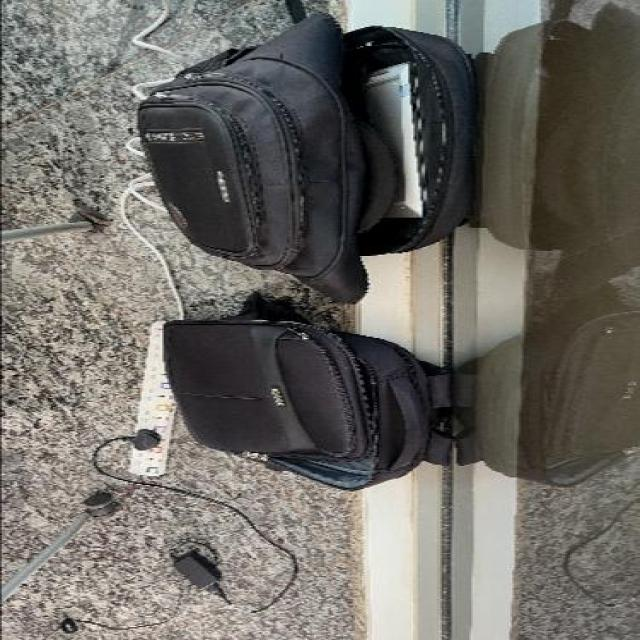canta: (126, 0, 478, 305), (160, 292, 454, 491)
